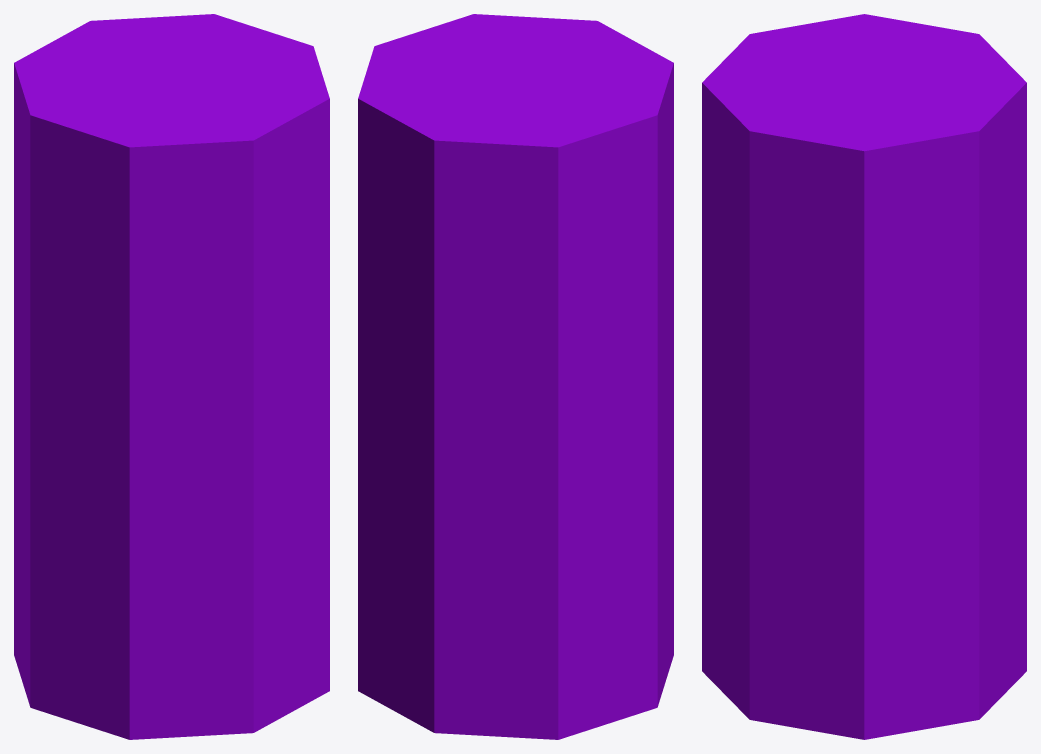
The model's file is monster(仮).glb.
The picture shows the model from 3 angles, left to right: view 1: azimuth 30°, elevation 25°; view 2: azimuth 150°, elevation 25°; view 3: azimuth 270°, elevation 25°; orthographic projection.
Parts seen in each view (by area): view 1: 円柱; view 2: 円柱; view 3: 円柱.
Boxes of the visible parts, x1=… form: 円柱: x1=14, y1=14, x2=329, y2=739; 円柱: x1=358, y1=14, x2=673, y2=739; 円柱: x1=702, y1=14, x2=1026, y2=739.
Bounding box in the file's own units: 1 × 2 × 1.
